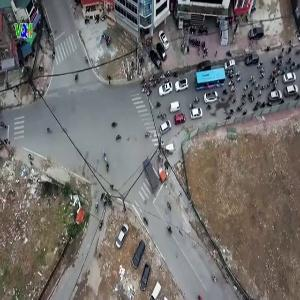drone: (180, 62, 273, 155)
